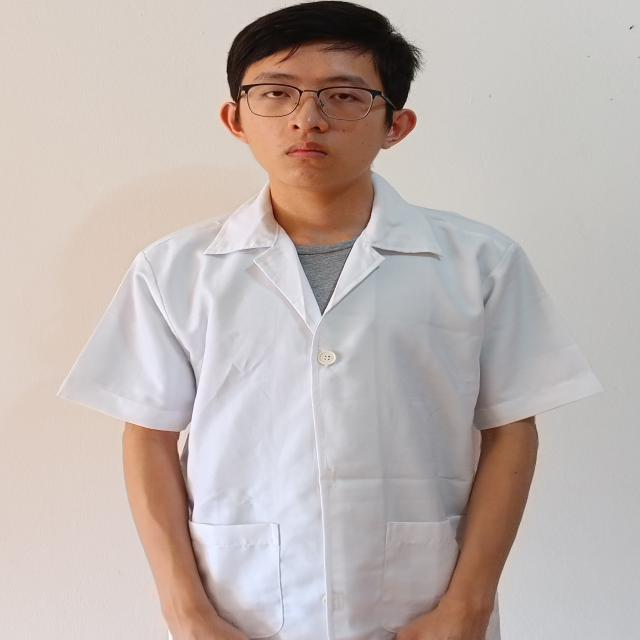person_with_labcoat: (60, 0, 601, 640)
